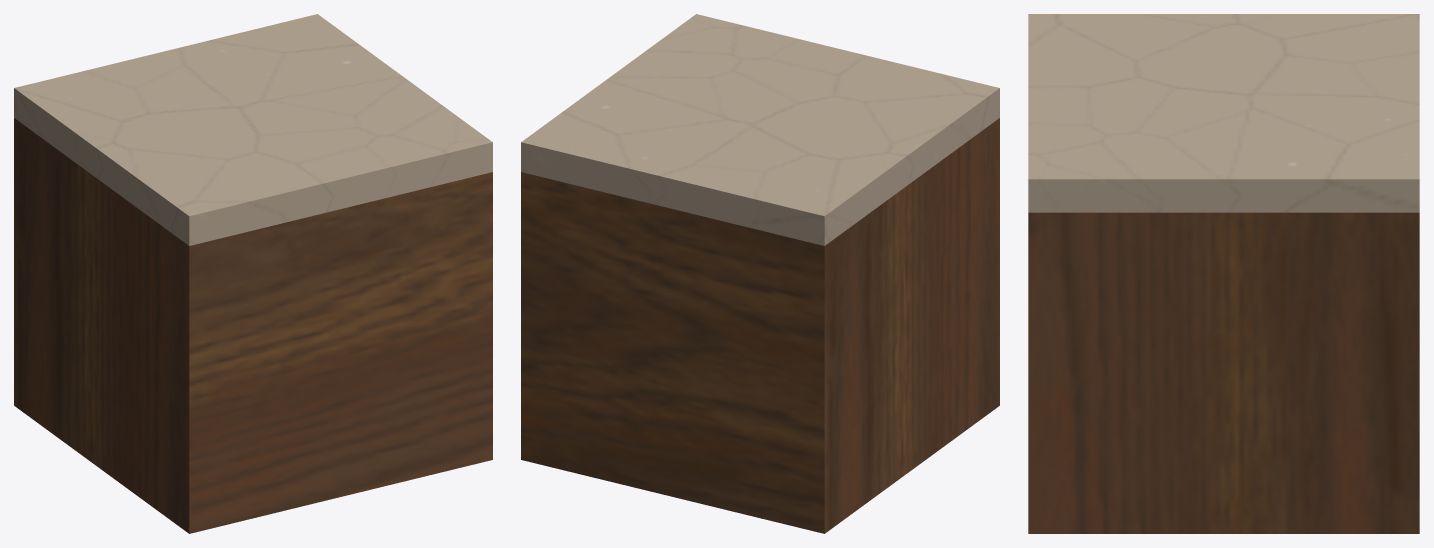
File: CounterCorner.fbx
3 renders of one model, left to right at view 1: azimuth 30°, elevation 25°; view 2: azimuth 150°, elevation 25°; view 3: azimuth 270°, elevation 25°, orthographic. The views are drawn at different scales.
Parts seen in each view (by area): view 1: CounterCorner; view 2: CounterCorner; view 3: CounterCorner.
Boxes of the visible parts, x1=… form: CounterCorner: x1=14, y1=14, x2=492, y2=533; CounterCorner: x1=521, y1=14, x2=999, y2=533; CounterCorner: x1=1028, y1=14, x2=1419, y2=533.
Size of the model in its own units: 1 by 1 by 1.
